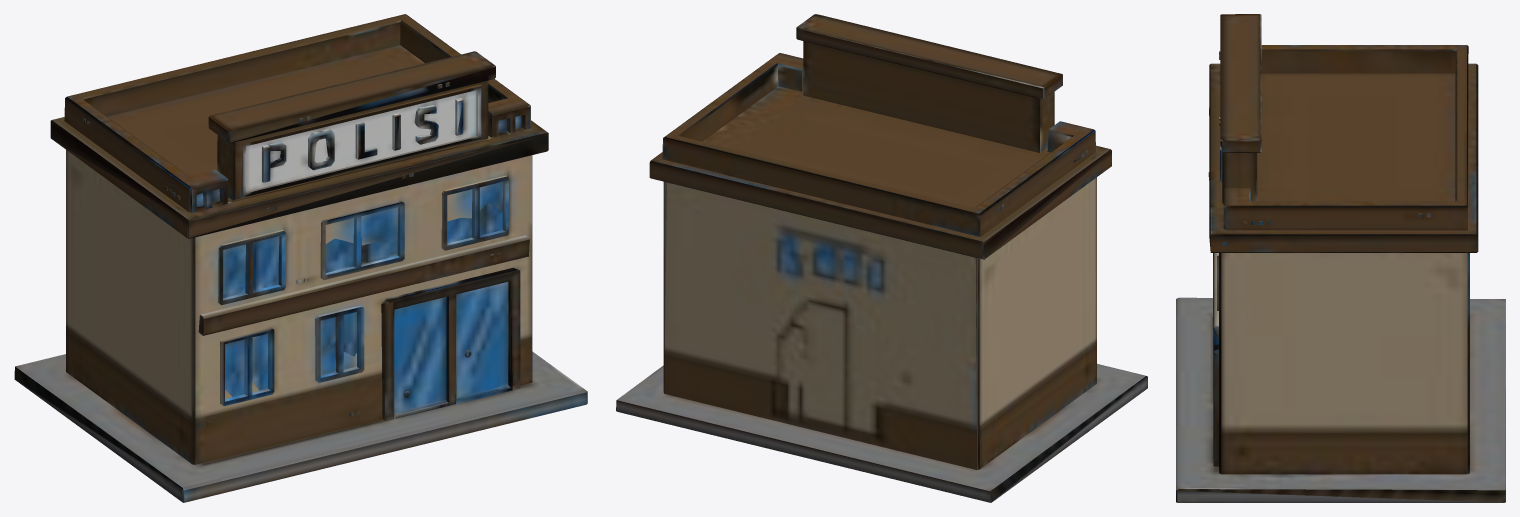
File: kantor_polisi_1_lod2.glb
3 views of the same model, side by side, from view 1: azimuth 30°, elevation 25°; view 2: azimuth 150°, elevation 25°; view 3: azimuth 270°, elevation 25° (orthographic). The views are drawn at different scales.
Parts seen in each view (by area): view 1: tripo_node_25906b27; view 2: tripo_node_25906b27; view 3: tripo_node_25906b27.
Part boxes in pixels (x1,y1,x2,y2): tripo_node_25906b27: (14, 14, 587, 502); tripo_node_25906b27: (616, 14, 1147, 502); tripo_node_25906b27: (1176, 14, 1505, 502).
Size of the model in its own units: 1 by 0.8006 by 0.7246.
Materials: 1 (1 with a texture image).
